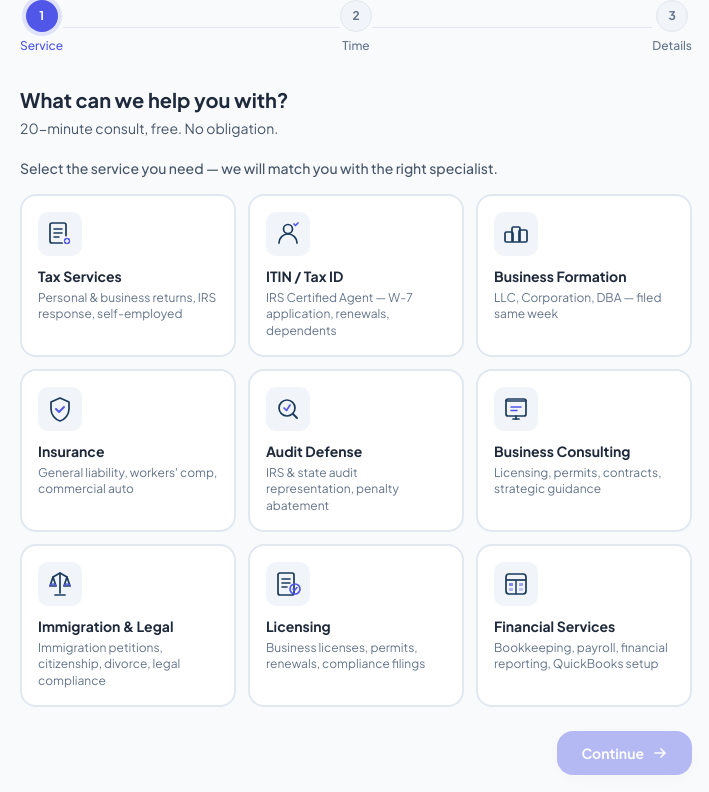
it: BookingFlow › back button returns to step 1 from step 2 (live mode)
Go to step 2
Click the text "Tax Services" at (80, 276), box left=38, top=267, right=122, bottom=285
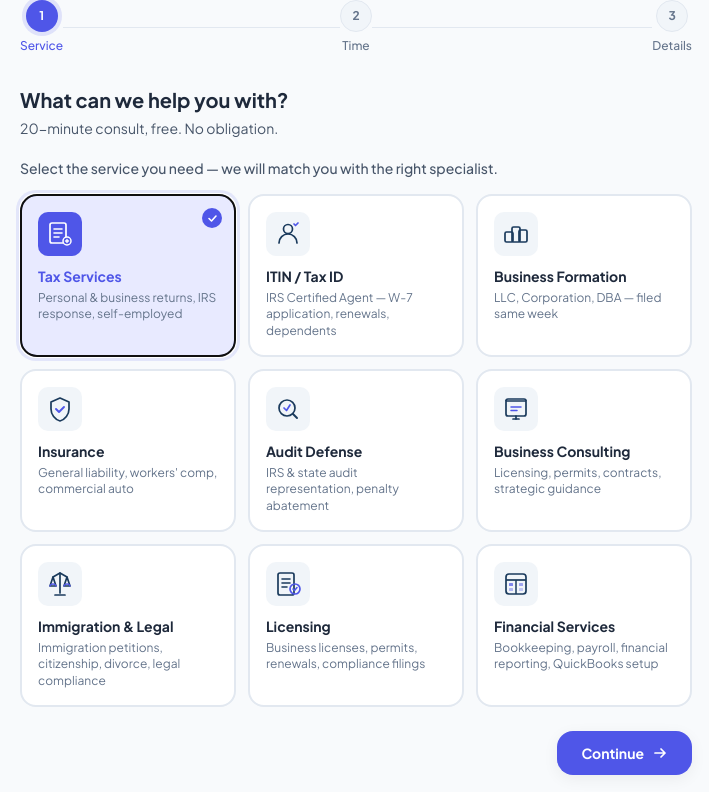
Click the button "Continue" at (625, 753), box left=557, top=731, right=692, bottom=775
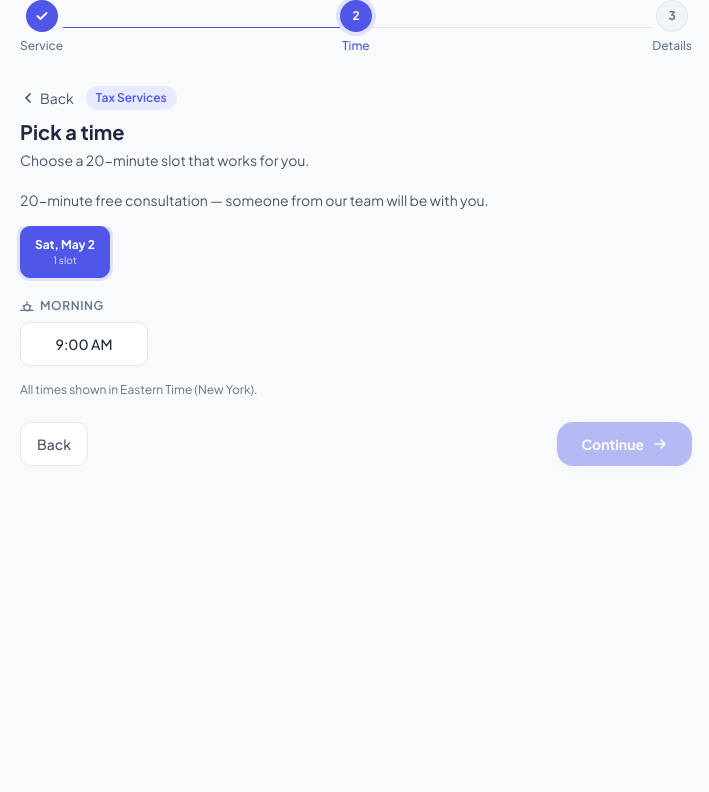
Result: the heading "Pick a time" is shown at left=20, top=119, right=124, bottom=144
Click Back
Click the button with aria-label "back to service selection" at (47, 98), box left=20, top=88, right=74, bottom=108
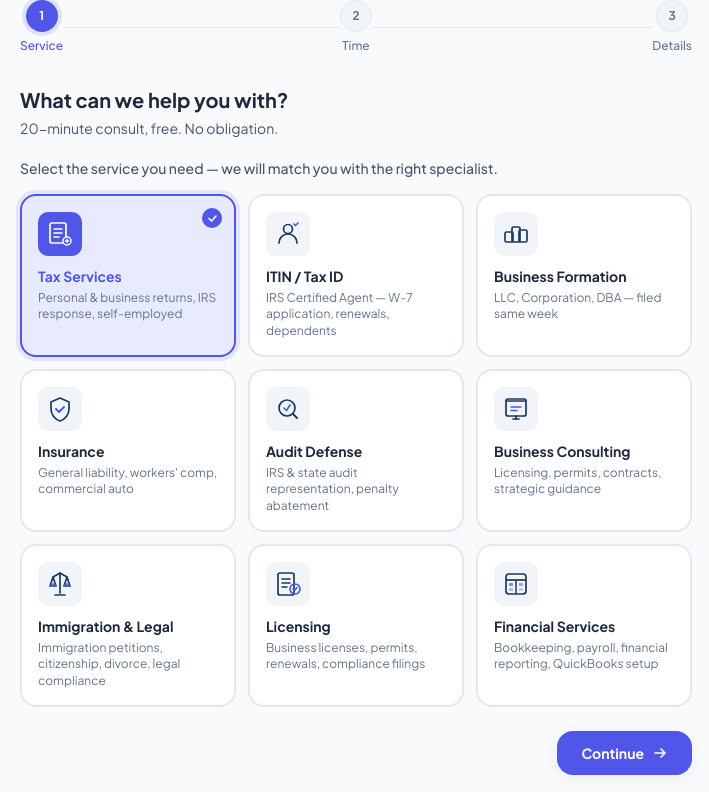
Result: the heading "What can we help you with?" is shown at left=20, top=87, right=288, bottom=112
